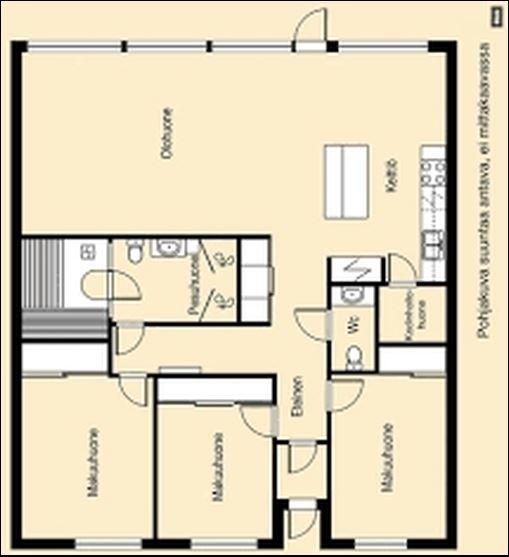bathroom: (113, 238, 239, 323), (332, 288, 377, 372)
door: (290, 5, 331, 57), (236, 402, 282, 439), (292, 304, 335, 342), (324, 376, 366, 414), (382, 249, 420, 290), (286, 495, 317, 541), (114, 319, 149, 358), (117, 370, 148, 410), (287, 437, 316, 475)
perimeter: (10, 40, 458, 549)
window: (17, 36, 127, 56), (205, 36, 293, 60), (121, 37, 212, 58), (327, 39, 436, 54), (343, 535, 416, 554), (69, 535, 148, 552), (183, 535, 265, 550)
